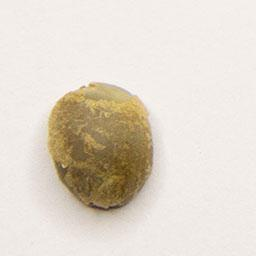premium: (45, 77, 158, 212)
